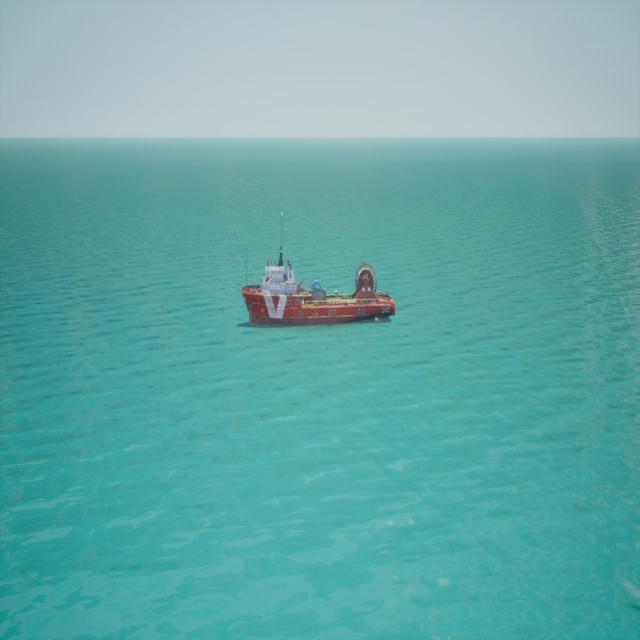tug boat: (240, 217, 396, 332)
